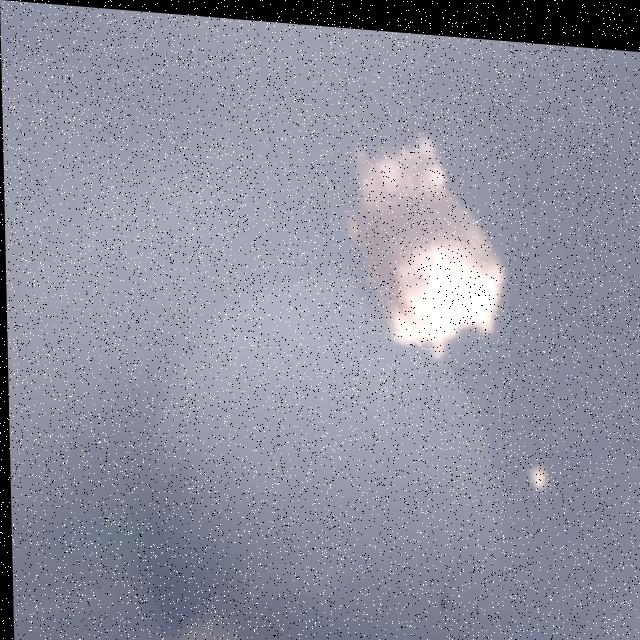thermocoal: (306, 94, 510, 364)
